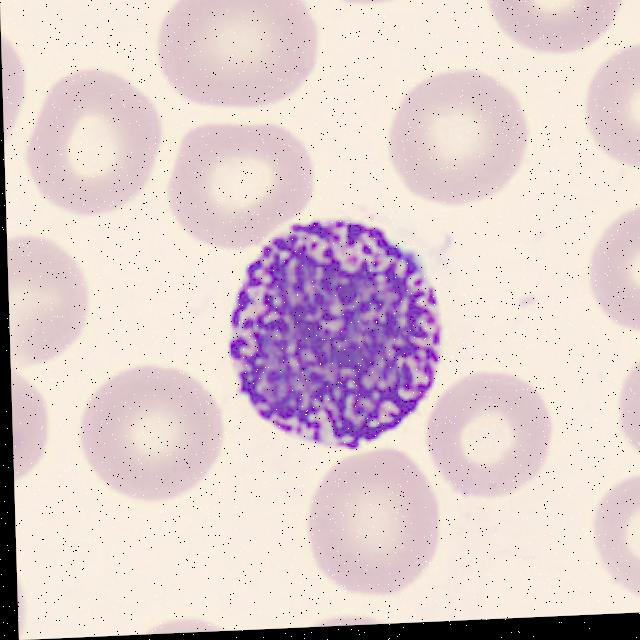basophil: (222, 213, 449, 459)
rbc: (80, 364, 236, 517), (25, 64, 168, 227), (148, 0, 339, 119), (165, 113, 324, 253), (387, 68, 541, 206), (307, 446, 444, 595), (427, 378, 558, 505), (7, 225, 102, 368), (474, 0, 628, 66), (575, 196, 640, 345), (586, 41, 640, 174), (11, 358, 61, 498), (587, 471, 640, 602), (608, 350, 640, 466), (329, 0, 426, 8)
